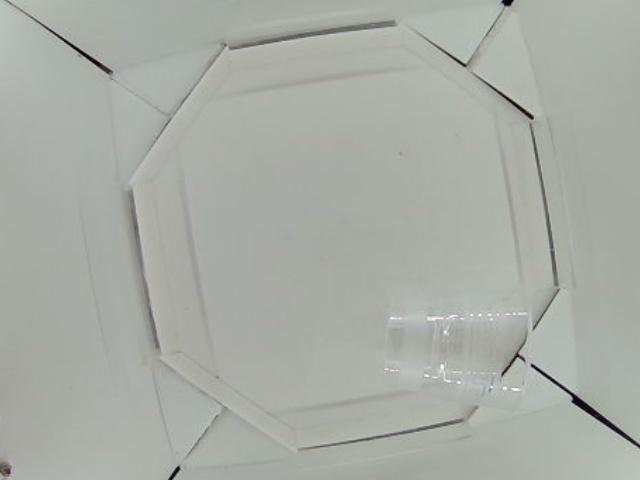Cup: (382, 303, 537, 415)
